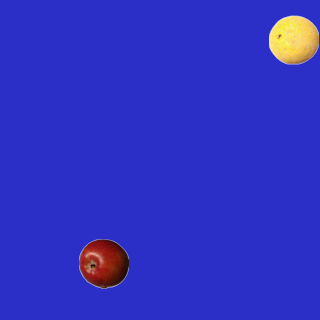Apple Braeburn: (78, 238, 128, 288)
Cantaloupe 1: (268, 14, 318, 64)
